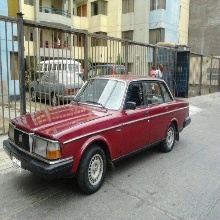no damage: (3, 73, 191, 193)
